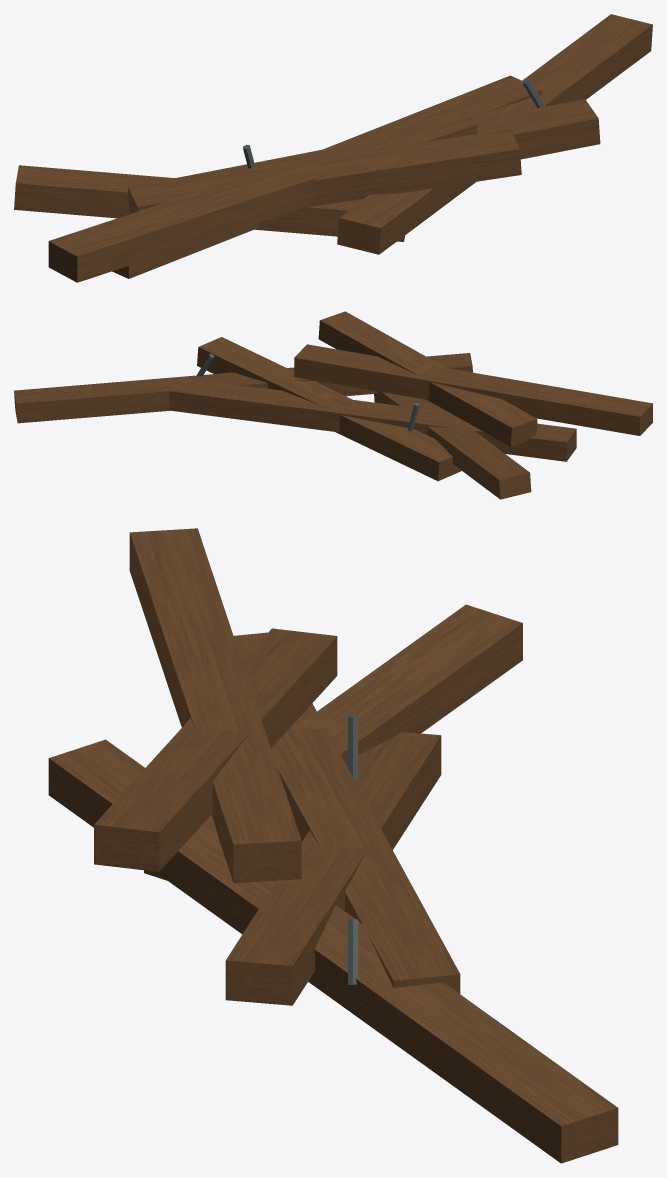
Rendered from en-002_broken_plank_pile__small.obj.
3 views of the same model, one above another, from view 1: azimuth 30°, elevation 25°; view 2: azimuth 150°, elevation 25°; view 3: azimuth 270°, elevation 25° (orthographic). The views are drawn at different scales.
Parts seen in each view (by area): view 1: en-002_broken_plank_pile__small; view 2: en-002_broken_plank_pile__small; view 3: en-002_broken_plank_pile__small.
Part boxes in pixels (left/top/right/bottom): en-002_broken_plank_pile__small: left=14, top=14, right=652, bottom=282; en-002_broken_plank_pile__small: left=14, top=311, right=652, bottom=499; en-002_broken_plank_pile__small: left=48, top=528, right=618, bottom=1163.
Size of the model in its own units: 1.89 by 0.2227 by 0.8699.
Materials: 2 (2 with a texture image).
